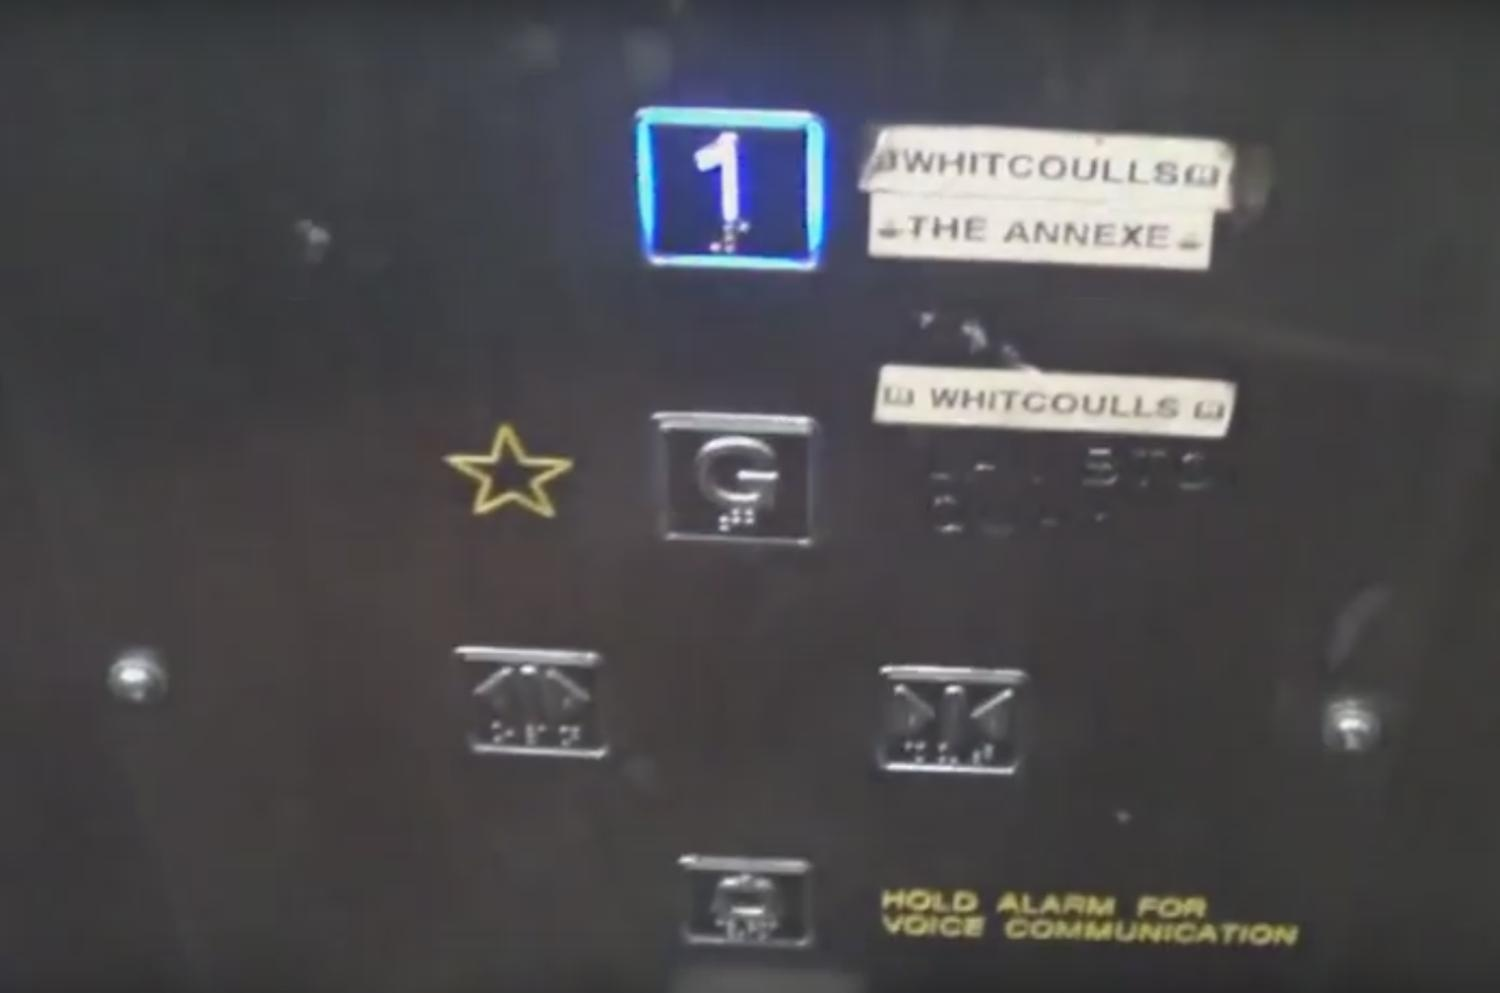1: (626, 92, 834, 283)
G: (645, 403, 824, 562)
alarm: (671, 850, 821, 959)
close: (869, 659, 1030, 784)
open: (446, 639, 617, 766)
